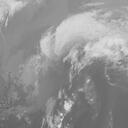cyclone: (39, 43, 87, 94)
